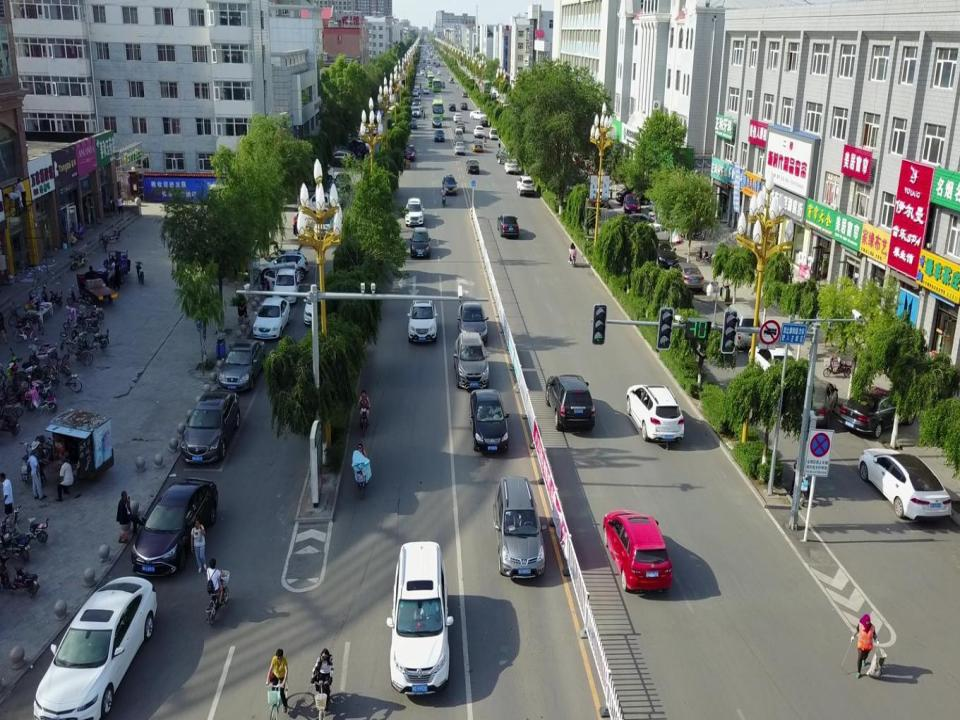car: (33, 576, 158, 720), (130, 477, 218, 578), (858, 448, 952, 522), (602, 509, 672, 593), (180, 389, 240, 464), (837, 386, 917, 438), (625, 384, 684, 451), (748, 344, 804, 393), (470, 389, 510, 452), (218, 339, 266, 391), (793, 378, 838, 430), (454, 332, 491, 390), (254, 250, 309, 282), (253, 297, 290, 340), (263, 267, 301, 305), (406, 298, 438, 342), (457, 302, 489, 344), (302, 286, 330, 327), (668, 262, 704, 292), (652, 240, 678, 268), (410, 226, 432, 258), (641, 223, 676, 243), (615, 187, 651, 206), (622, 212, 658, 231), (404, 198, 425, 226), (306, 162, 335, 182), (313, 213, 334, 238), (327, 150, 356, 168), (497, 215, 519, 237), (648, 209, 681, 223), (495, 148, 519, 166), (332, 173, 352, 194), (650, 197, 678, 212), (516, 175, 534, 197), (623, 193, 641, 215), (442, 174, 457, 196), (564, 154, 584, 168), (504, 158, 519, 175), (402, 144, 416, 161), (465, 159, 479, 174), (471, 138, 483, 152), (453, 141, 465, 155), (433, 129, 445, 142), (474, 126, 485, 138), (432, 116, 442, 128), (455, 122, 465, 134), (408, 118, 418, 129), (488, 128, 498, 139), (479, 117, 488, 127)
van: (386, 541, 454, 696), (493, 476, 547, 579), (546, 375, 595, 431), (724, 303, 762, 350), (348, 139, 366, 159), (454, 128, 464, 142)
